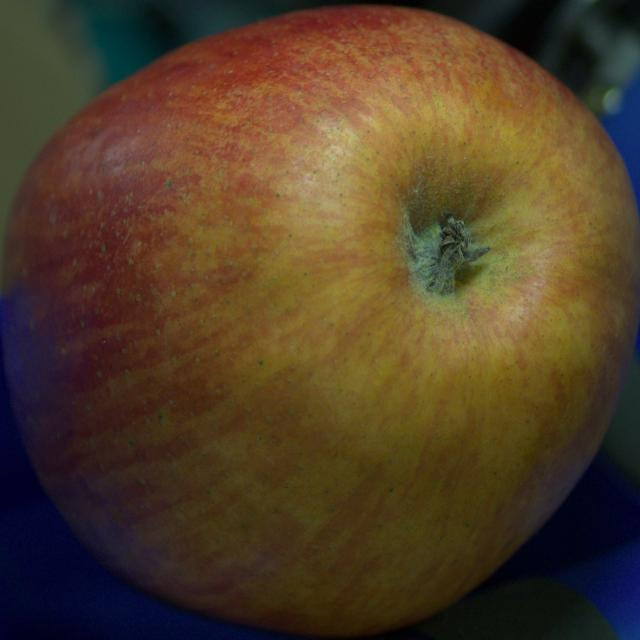apple: (0, 6, 639, 636)
